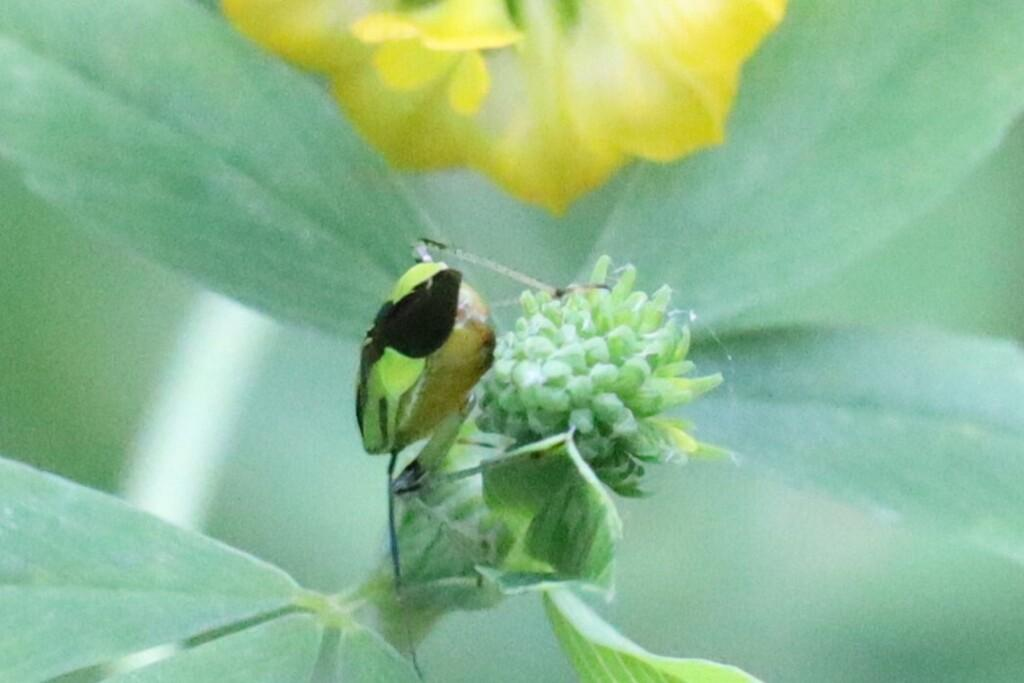plant_bugs: (311, 196, 626, 676)
